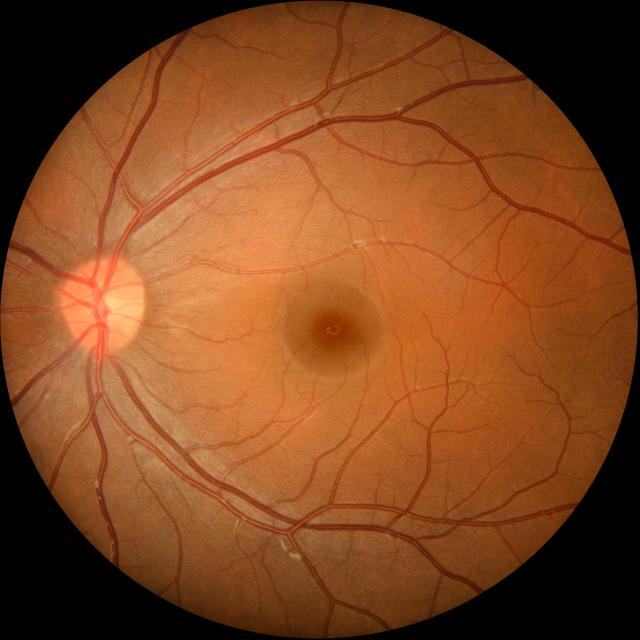OC: (92, 292, 122, 323)
OD: (61, 255, 146, 352)
